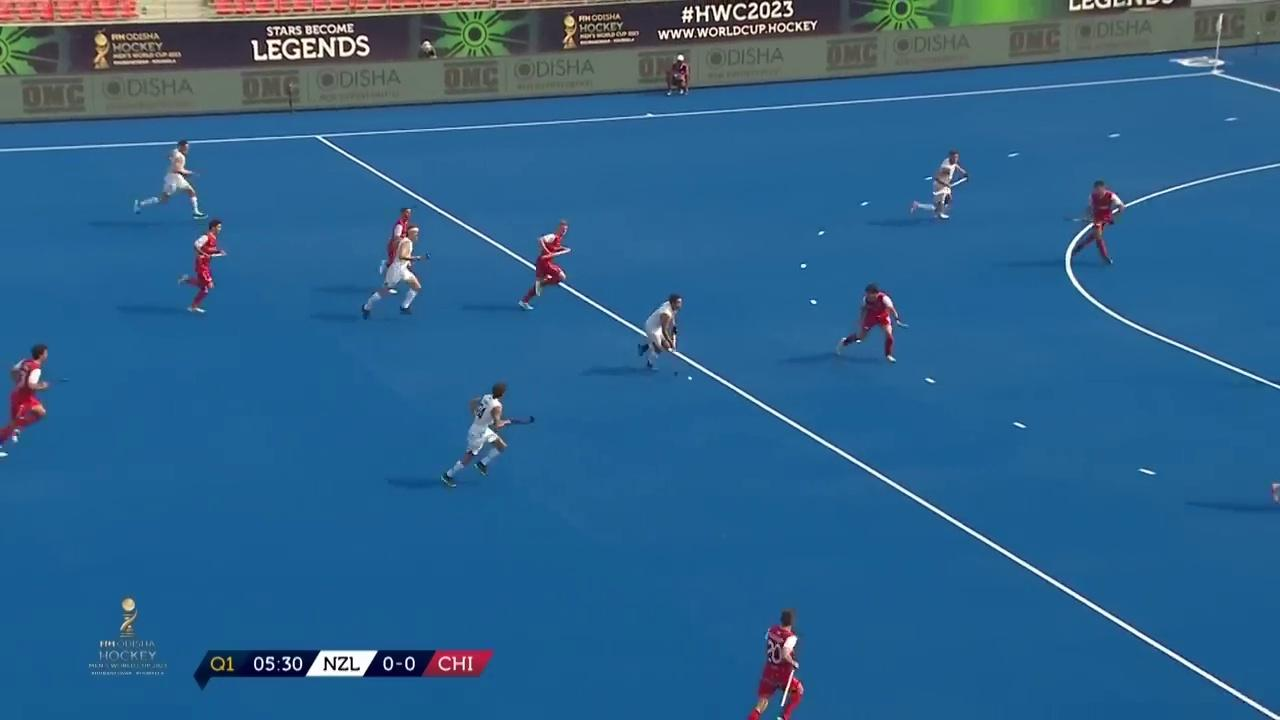ball: (677, 364, 697, 386)
